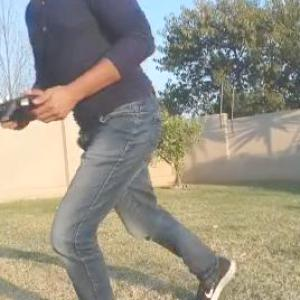follow: (1, 0, 241, 299)
